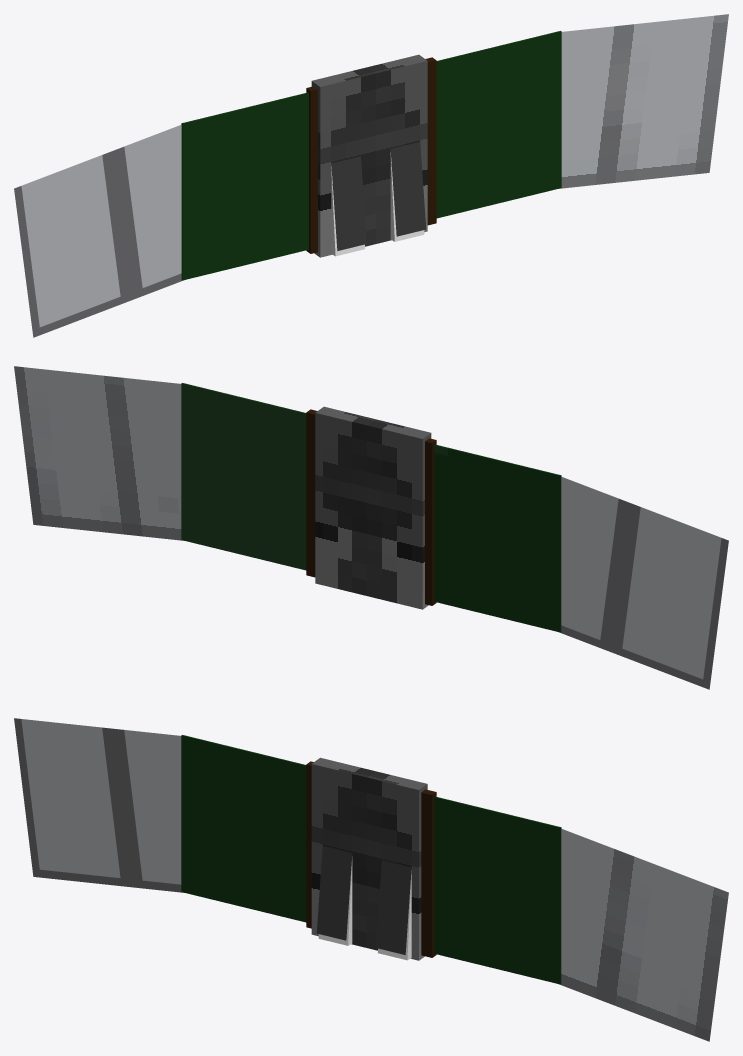
Rendered from Wingpack.obj.
3 renders of one model, top to bottom at view 1: azimuth 30°, elevation 25°; view 2: azimuth 150°, elevation 25°; view 3: azimuth 330°, elevation 25°, orthographic.
Parts seen in each view (by area): view 1: cube; view 2: cube; view 3: cube.
Part boxes in pixels (left/top/right/bottom): cube: left=14, top=14, right=728, bottom=337; cube: left=14, top=366, right=728, bottom=689; cube: left=14, top=718, right=728, bottom=1041.
Bounding box in the file's own units: 3.01 × 0.7451 × 0.1067.
7 materials, 7 textured.
